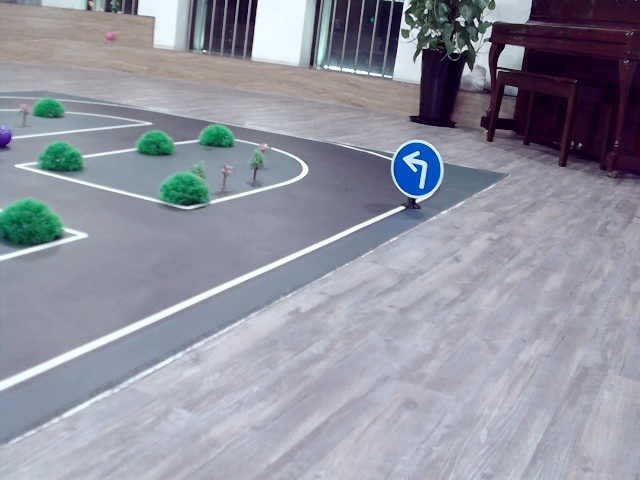turn_left: (401, 147, 429, 186)
